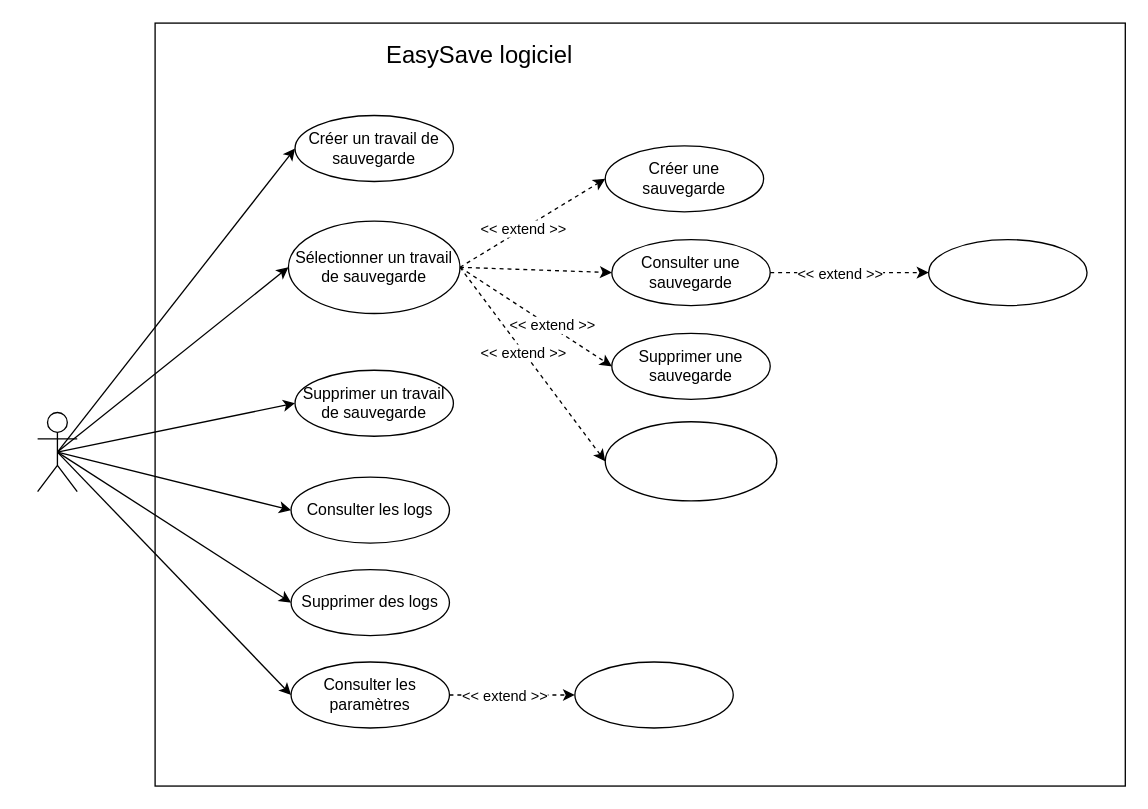
Some shapes in this 1148 by 809 pixel diagram are drawn without their labels. Here are the shapes that lost their labels. From the top down, the box of each, then its label:
(927, 238, 1087, 306): Rennomer une sauvegarde
(36, 411, 77, 492): Utilisateur
(604, 420, 777, 501): Modifier un travail de sauvegarde
(574, 661, 733, 728): Changer la langue
